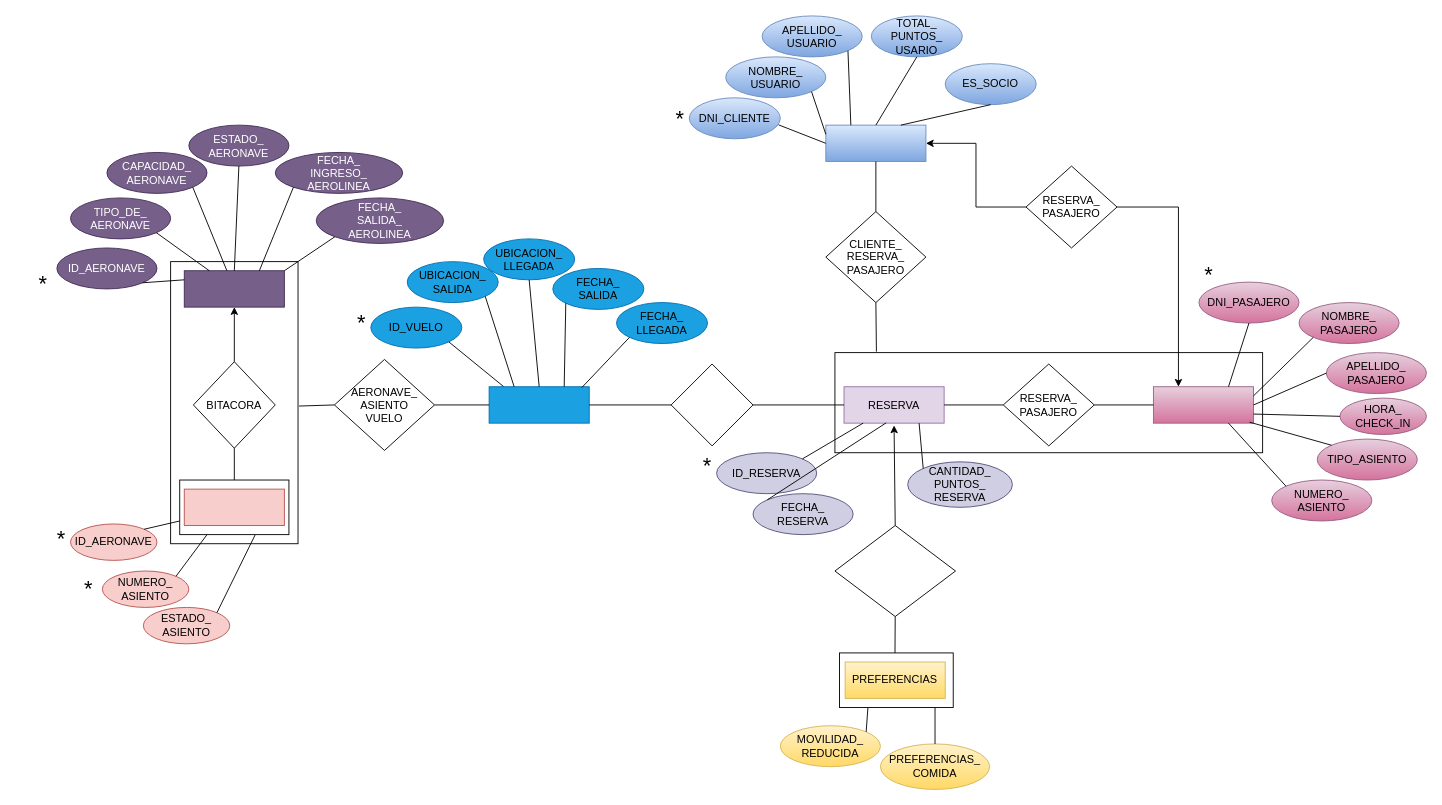
This 1442x805 diagram has some shape labels left out. Here are the shapes that lost their labels. From the top down, the box of each, then its label:
(825, 124, 926, 162): CLIENTE
(183, 270, 284, 307): AERONAVE
(488, 386, 589, 423): VUELO
(670, 363, 753, 446): VUELO_ RESERVA
(1153, 386, 1254, 423): PASAJERO
(183, 488, 284, 526): ASIENTO
(834, 525, 956, 617): RESERVA_ PREFERENCIAS
